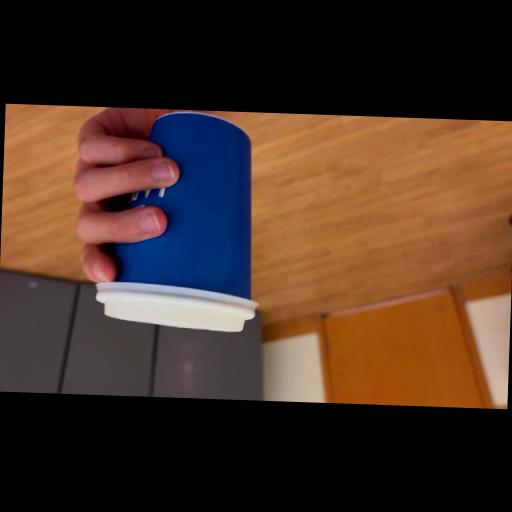lp_paper_cup: (94, 107, 268, 334)
